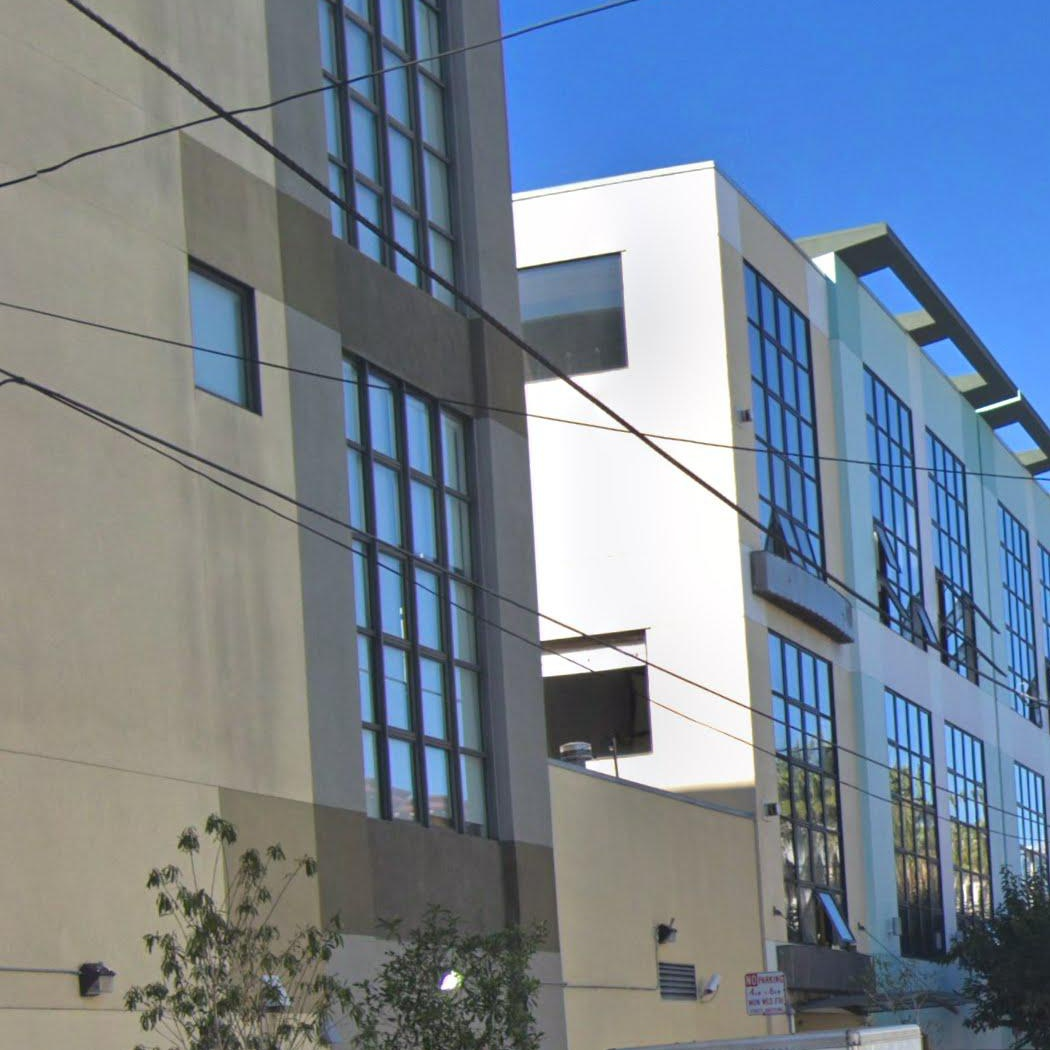No Parking: (742, 970, 790, 1017)
